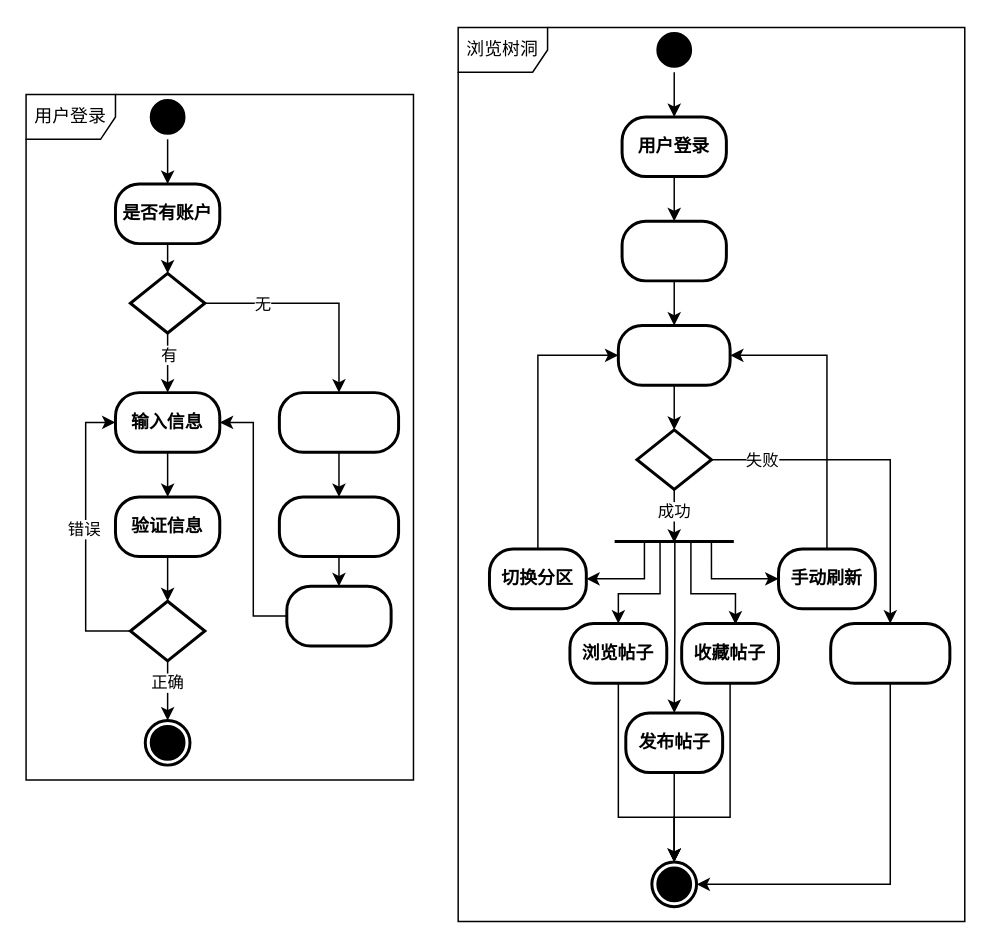
The diagram is 991 pixels wide and 948 high, and some of its shapes have lost their labels. Here are the shapes that lost their labels. From the top down, the centre of each, then its label:
At point (673, 250): "进入首页".
At point (673, 354): "拉取帖子".
At point (338, 421): "进入注册界面".
At point (338, 526): "输入账户信息".
At point (338, 615): "注册新账户".
At point (889, 652): "提示网络异常".
